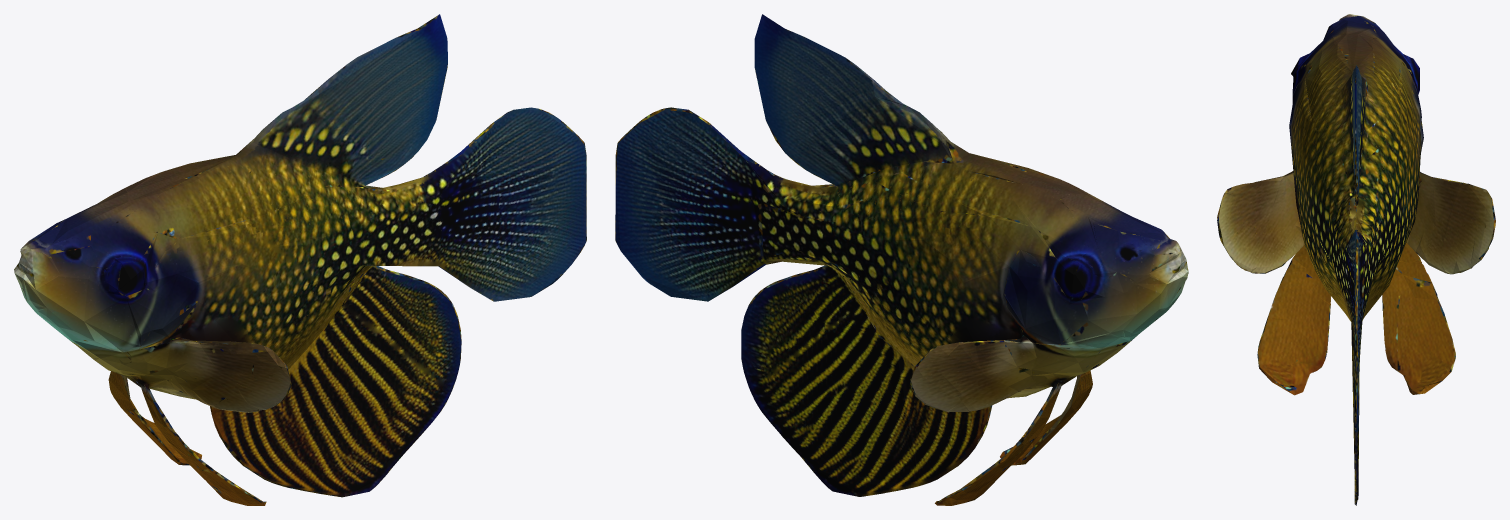
File: fish_0121_smpl23_resized.glb
The picture shows the model from 3 angles, left to right: view 1: azimuth 30°, elevation 25°; view 2: azimuth 150°, elevation 25°; view 3: azimuth 270°, elevation 25°; orthographic projection.
Visible parts, largest first — view 1: world; view 2: world; view 3: world.
Part boxes in pixels (<box>): world: <box>14,14,586,505</box>; world: <box>615,14,1188,505</box>; world: <box>1217,14,1495,505</box>.
Bounding box in the file's own units: 1.99 × 1.54 × 0.85.
Materials: 1 (1 with a texture image).
